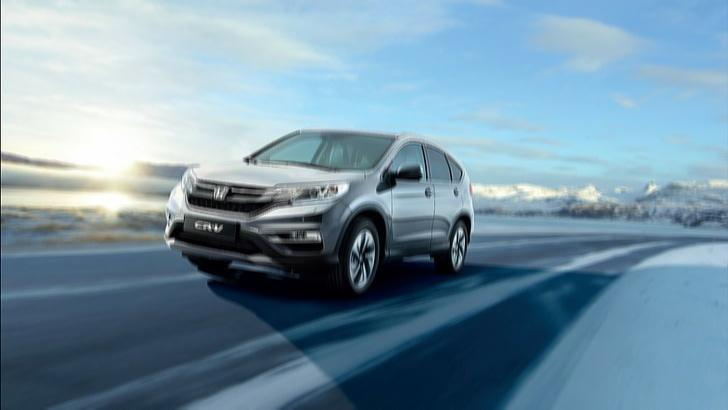Car hood: (189, 159, 369, 193)
Fender - -F-L-: (340, 169, 391, 262)
Fender - -R-L-: (460, 184, 476, 222)
Front bumper: (160, 197, 345, 285)
Headlight - -L-: (266, 178, 355, 209)
Headlight - -R-: (173, 161, 206, 206)
Passenger-s door - -F-L-: (391, 134, 434, 256)
Passenger-s door - -R-L-: (429, 146, 462, 252)
Rear bumper: (469, 218, 482, 245)
Rear light - -L-: (466, 182, 481, 202)
Side bumper - -L-: (375, 241, 457, 264)
Side mirror - -L-: (387, 156, 425, 184)
